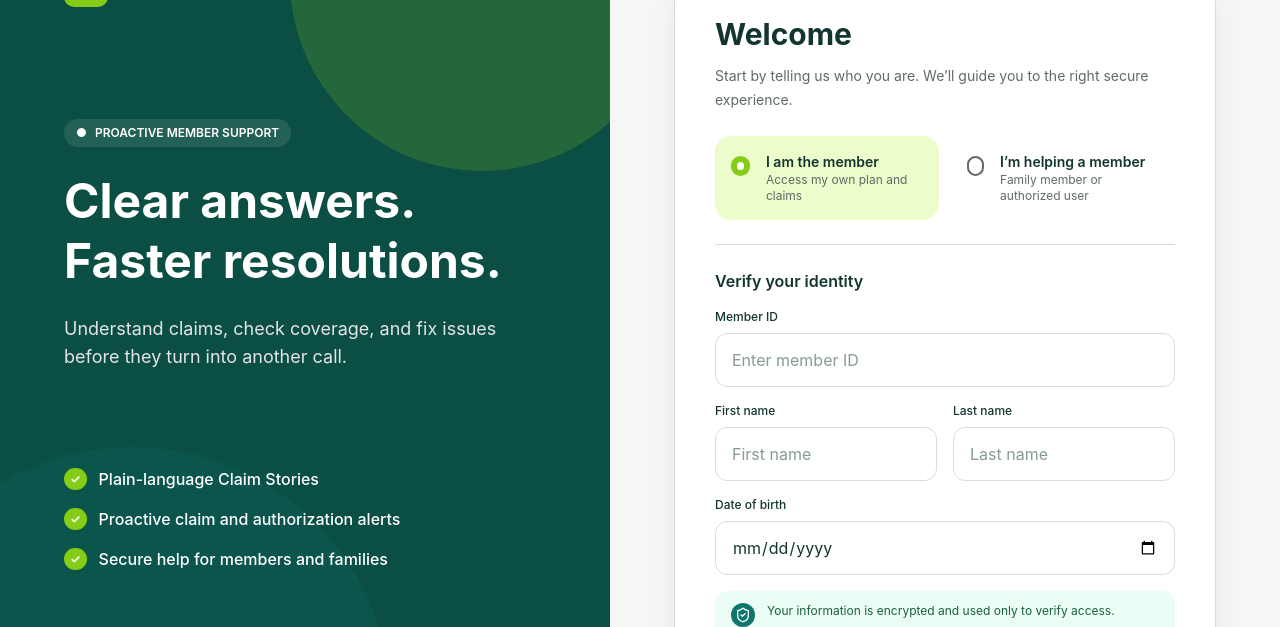
Test: app flows › logs in with the demo member and opens the dashboard
Type "MBR00036" into the field with placeholder "Enter member ID" at coordinates (945, 360), box [715, 333, 1175, 387]
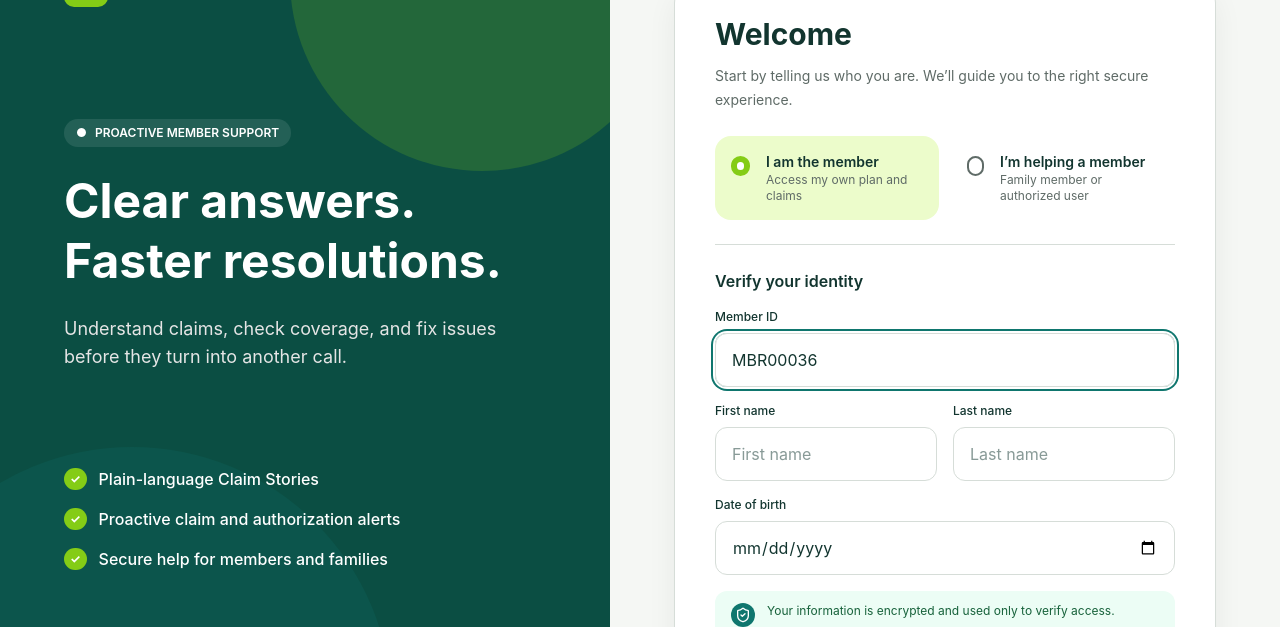
Type "Joshua" into the field with placeholder "First name" at coordinates (826, 454), box [715, 427, 937, 481]
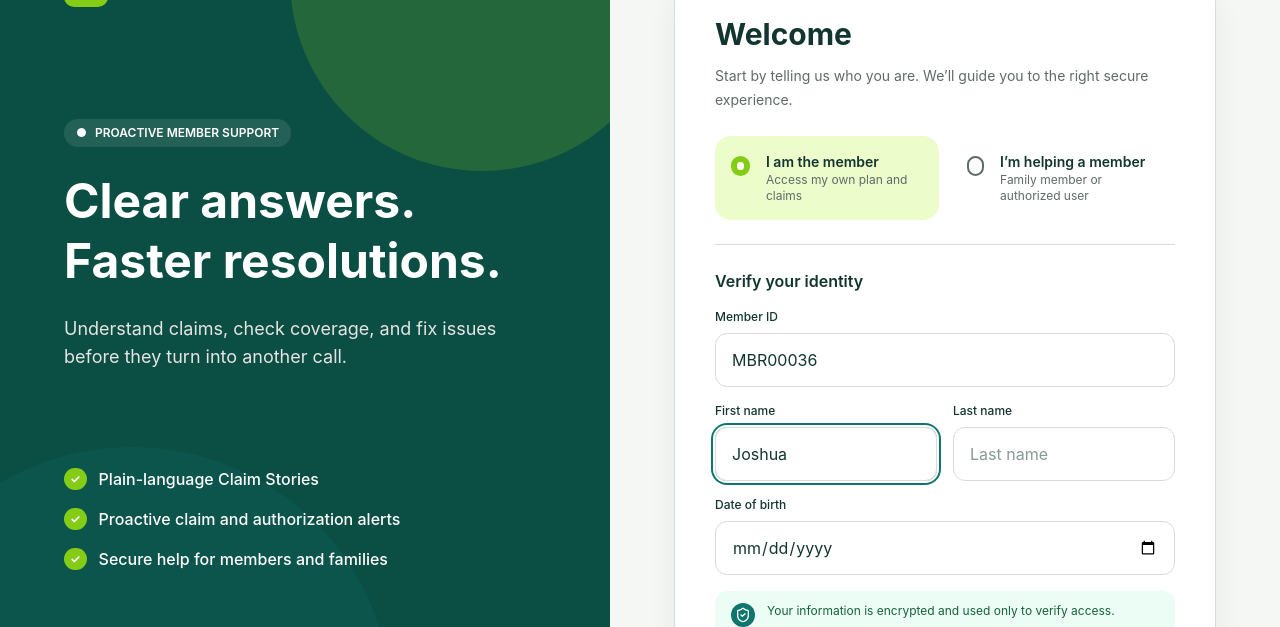
Type "Davis" into the field with placeholder "Last name" at coordinates (1064, 454), box [953, 427, 1175, 481]
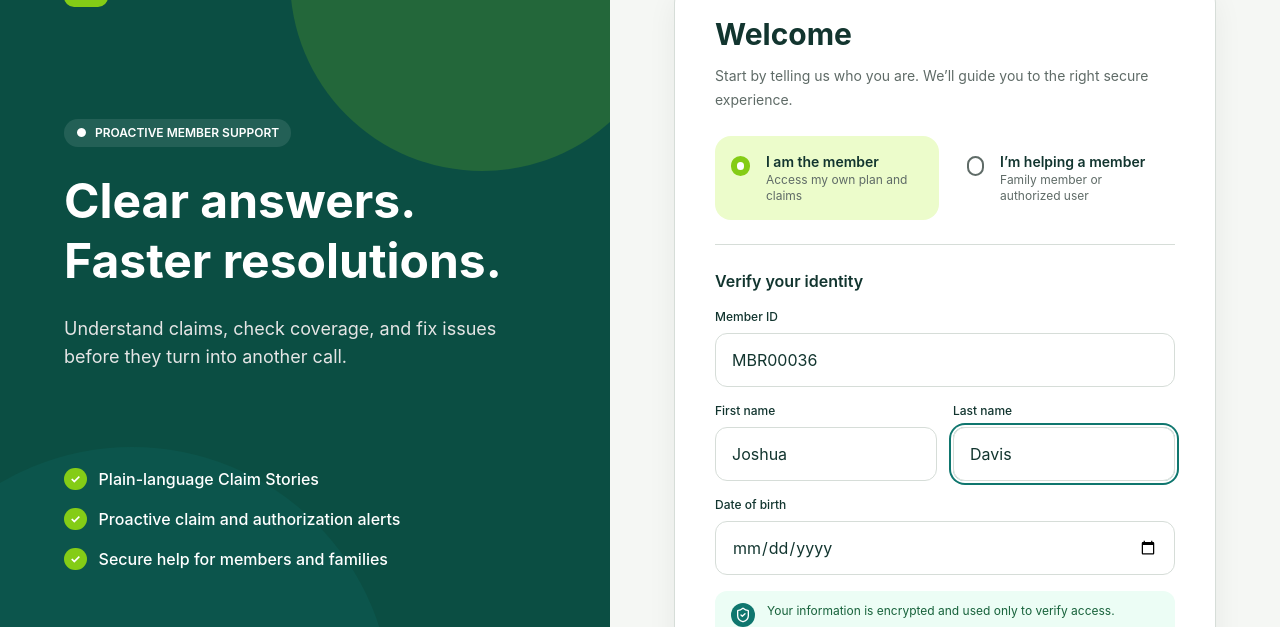
Type "1970-07-02" into the date field labelled "Date of birth" at coordinates (945, 548), box [715, 521, 1175, 575]
(page scrolled)
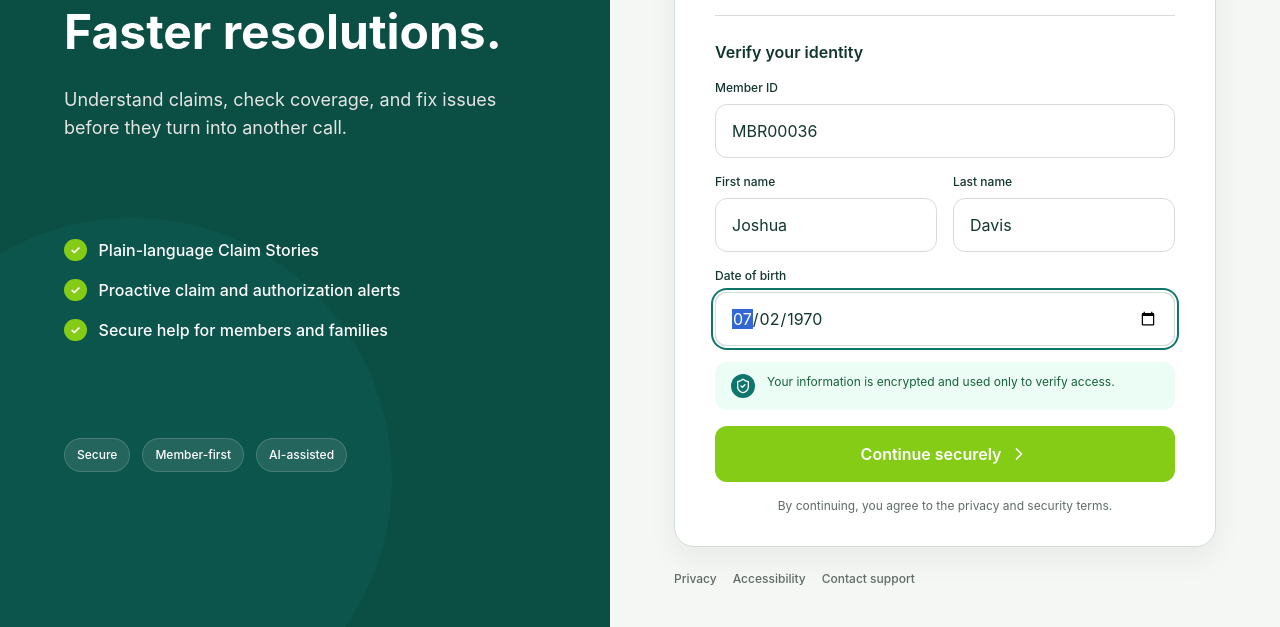
Click the button "Continue securely" at coordinates (945, 454), box [715, 426, 1175, 482]
(page scrolled)
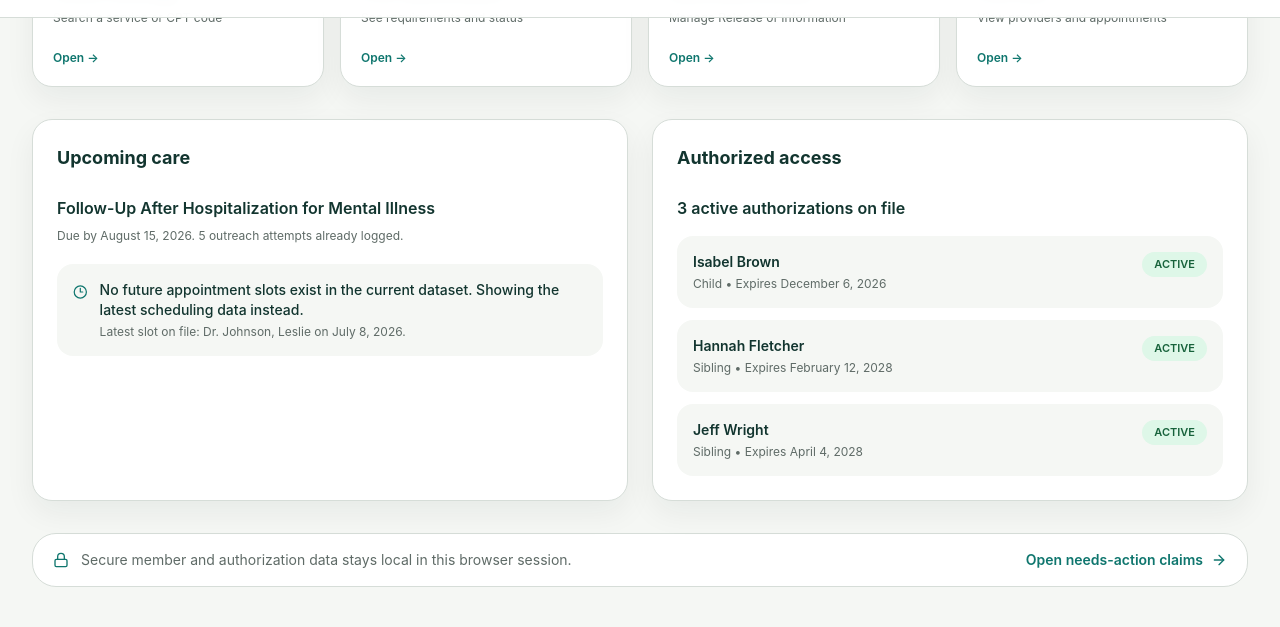
Check: the text "3 active authorizations on file" is shown, box [677, 198, 905, 218]
Check: the text "Hannah Fletcher" is shown, box [693, 337, 804, 354]
Check: the text "Isabel Brown" is shown, box [693, 253, 780, 270]
